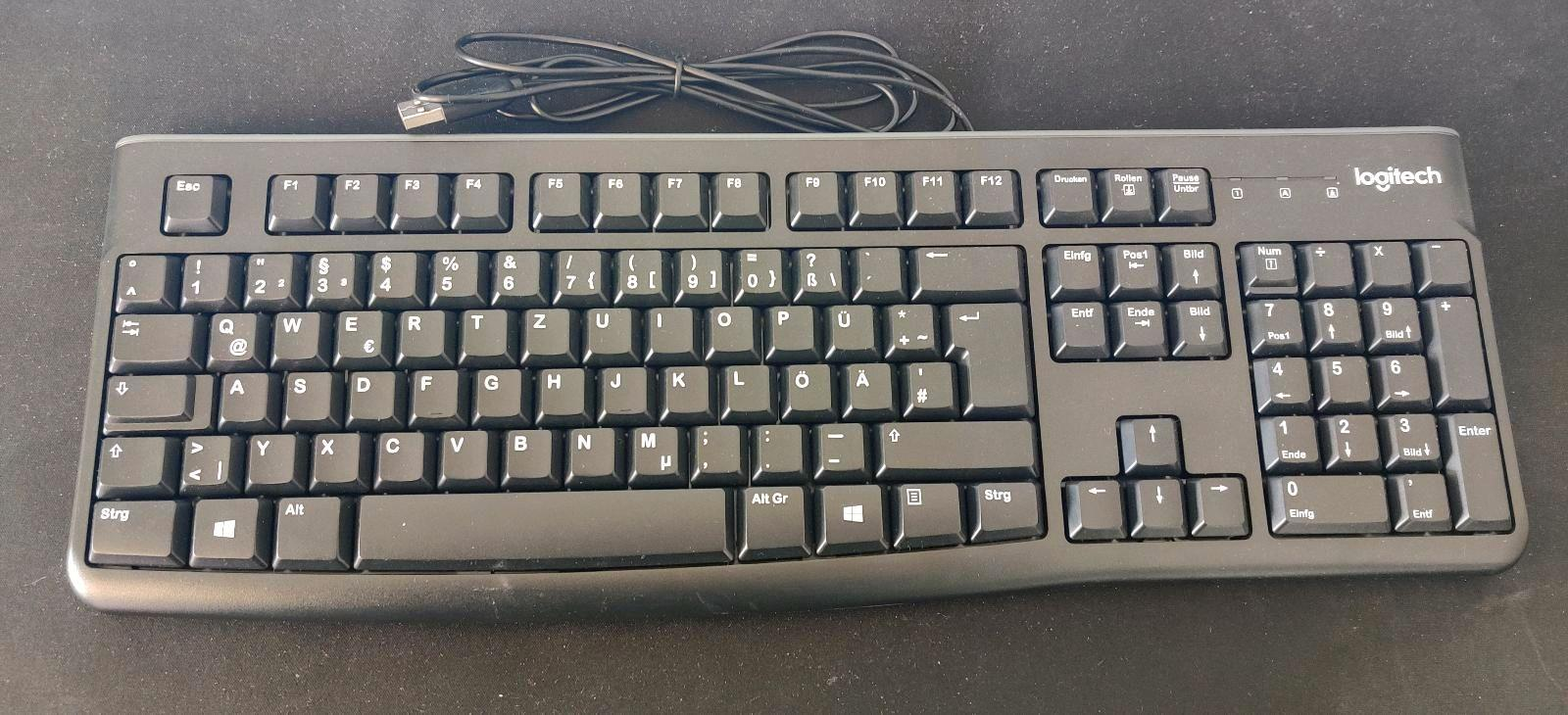0: (734, 243, 781, 294)
1: (177, 249, 227, 300)
2: (241, 248, 291, 300)
3: (304, 247, 354, 299)
4: (368, 247, 415, 297)
5: (427, 245, 477, 297)
6: (489, 245, 539, 296)
7: (552, 244, 600, 294)
8: (612, 243, 662, 295)
9: (674, 243, 721, 294)
a: (217, 367, 266, 419)
accent: (853, 241, 899, 290)
ae: (844, 358, 890, 407)
alt-left: (269, 491, 339, 560)
altgr-right: (737, 481, 806, 550)
b: (500, 423, 550, 476)
c: (372, 426, 422, 479)
caret: (112, 250, 165, 302)
comma: (689, 420, 738, 473)
d: (344, 365, 393, 418)
del: (910, 240, 1017, 289)
e: (332, 306, 381, 357)
enter: (941, 297, 1027, 406)
f: (408, 364, 456, 416)
g: (470, 364, 519, 415)
h: (535, 363, 582, 412)
hash: (903, 357, 952, 407)
i: (645, 303, 691, 351)
j: (598, 362, 645, 411)
k: (661, 361, 707, 410)
keyboard: (58, 118, 1542, 615)
l: (721, 359, 767, 409)
less: (176, 430, 228, 486)
m: (627, 421, 677, 474)
minus: (814, 418, 862, 470)
n: (564, 423, 612, 475)
o: (705, 302, 752, 350)
oe: (782, 359, 829, 409)
p: (764, 301, 811, 349)
plus: (885, 298, 932, 349)
point: (752, 419, 800, 471)
q: (205, 308, 256, 359)
r: (395, 306, 443, 356)
s: (279, 366, 329, 418)
shift-left: (93, 431, 163, 486)
shift-lock: (103, 369, 187, 416)
shift-right: (875, 415, 1032, 467)
space: (351, 484, 726, 562)
ss: (793, 242, 840, 292)
strg-left: (83, 495, 174, 556)
strg-right: (969, 477, 1038, 530)
t: (459, 305, 505, 354)
tab: (108, 309, 190, 359)
u: (583, 303, 630, 353)
ue: (824, 300, 872, 349)
v: (437, 425, 485, 477)
w: (270, 307, 318, 358)
x: (309, 428, 358, 481)
y: (243, 429, 294, 482)
z: (520, 304, 567, 353)
